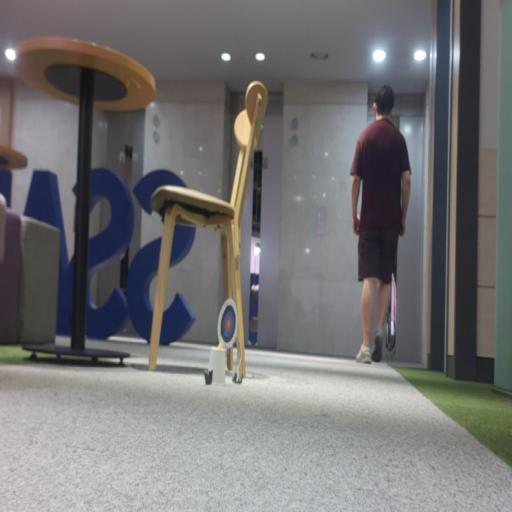target: (218, 298, 238, 348)
